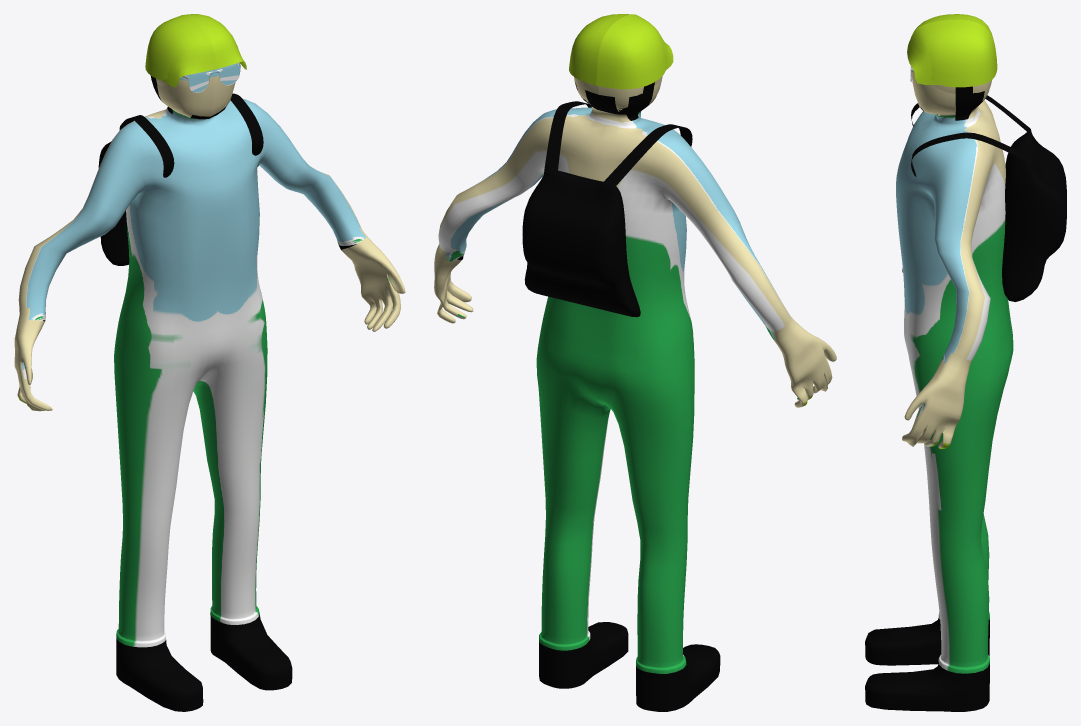
The model's file is Player.obj.
3 views of the same model, side by side, from view 1: azimuth 30°, elevation 25°; view 2: azimuth 150°, elevation 25°; view 3: azimuth 270°, elevation 25° (orthographic). The views are drawn at different scales.
Parts seen in each view (by area): view 1: Body, Bag; view 2: Body, Bag; view 3: Body, Bag.
Part boxes in pixels (x1,y1,x2,y2): Body: (14,14,405,711); Bag: (98,93,263,265); Body: (434,14,836,711); Bag: (522,101,692,317); Body: (865,14,1013,711); Bag: (911,95,1066,301).
Bounding box in the file's own units: 3.86 × 6.34 × 1.76.
Materials: 2 (2 with a texture image).
